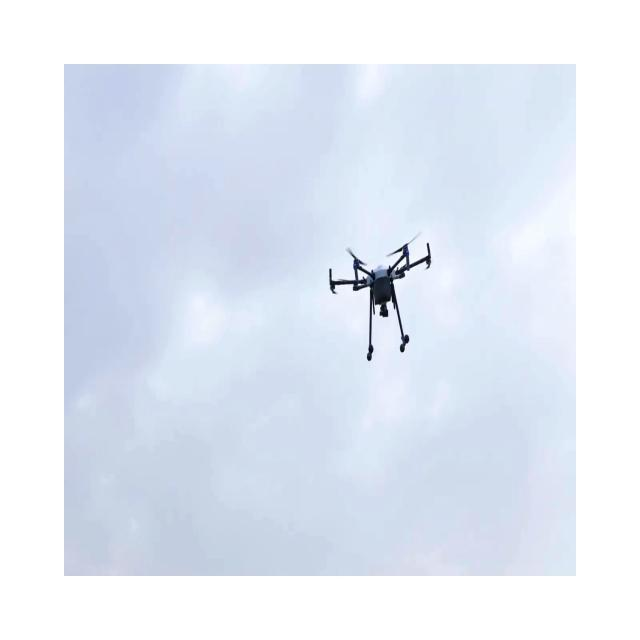drone: (328, 230, 432, 361)
